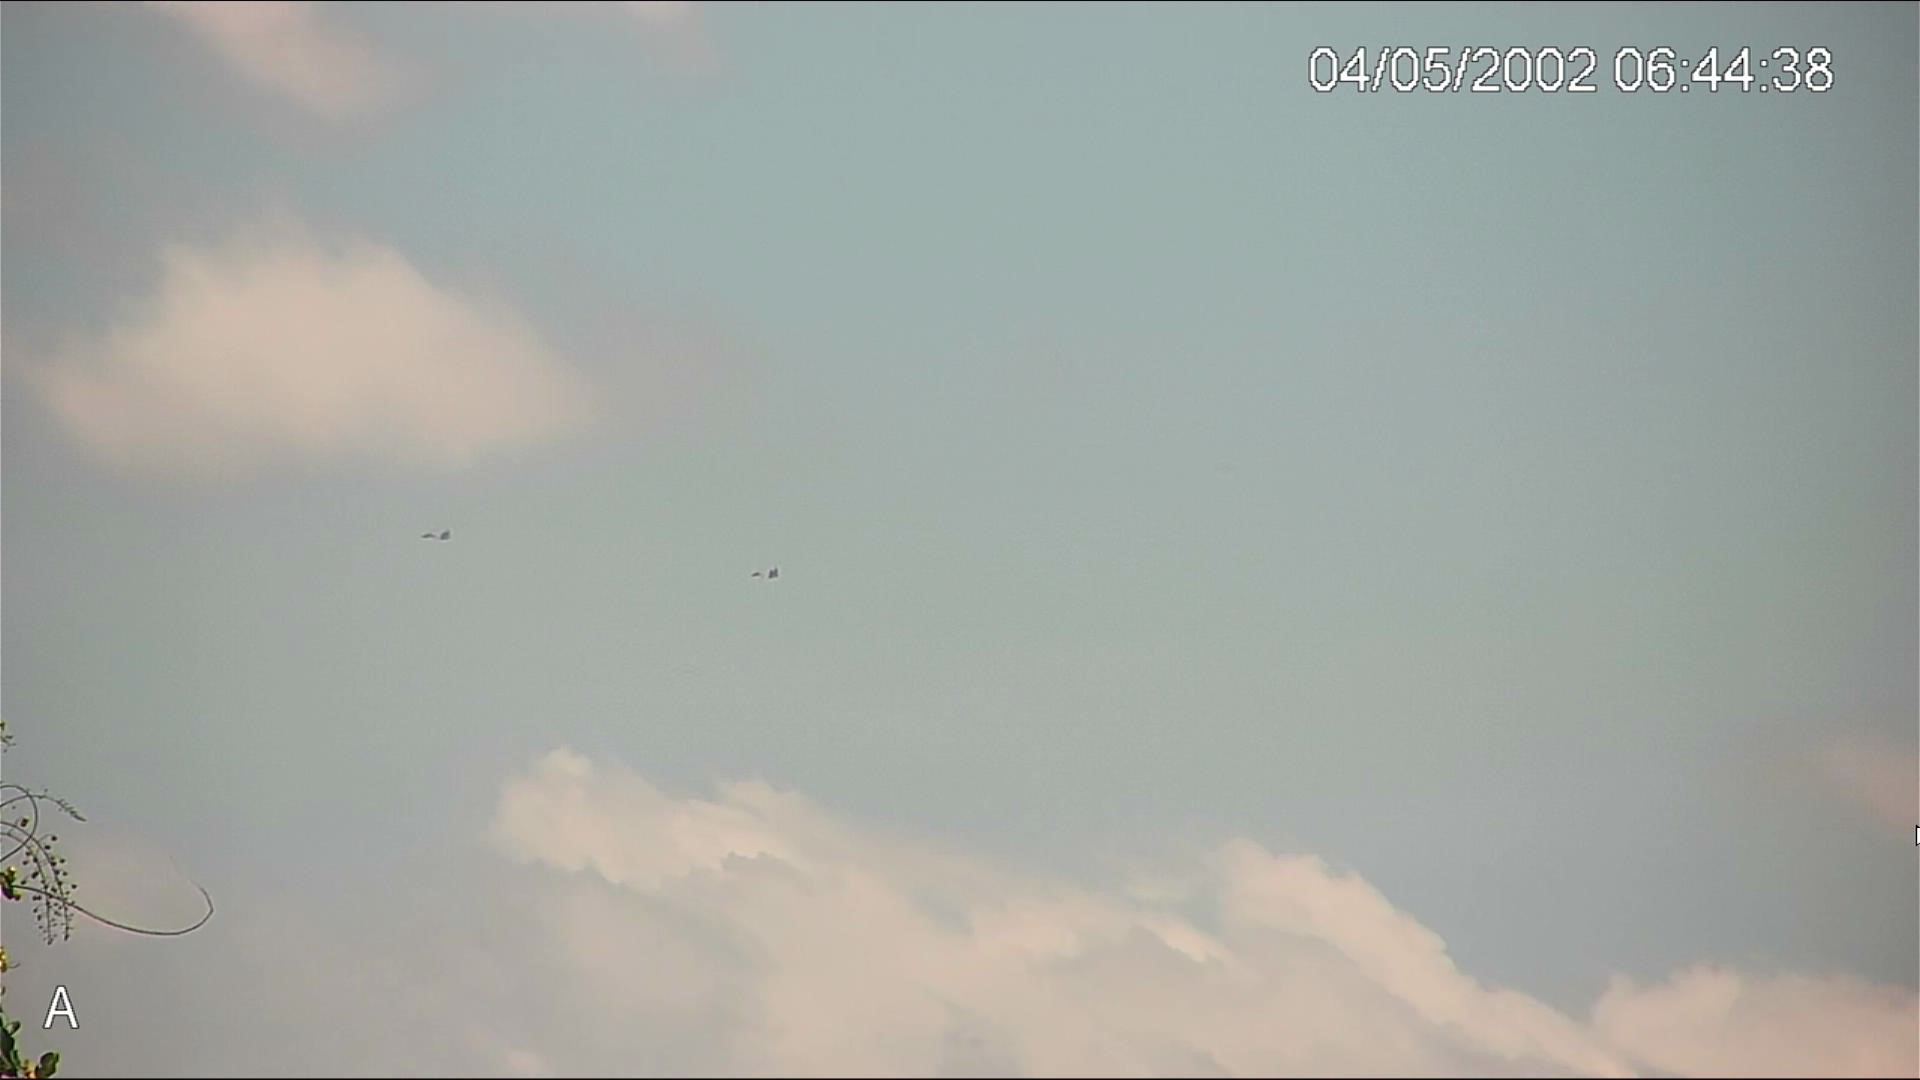SU_30: (418, 524, 455, 545), (750, 562, 781, 583)
